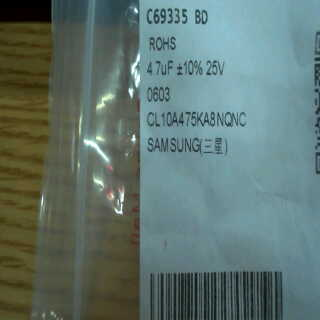4.7uF: (146, 57, 176, 82)
